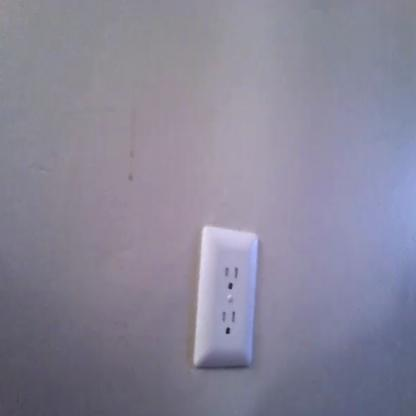OUTLET: (196, 228, 255, 369)
